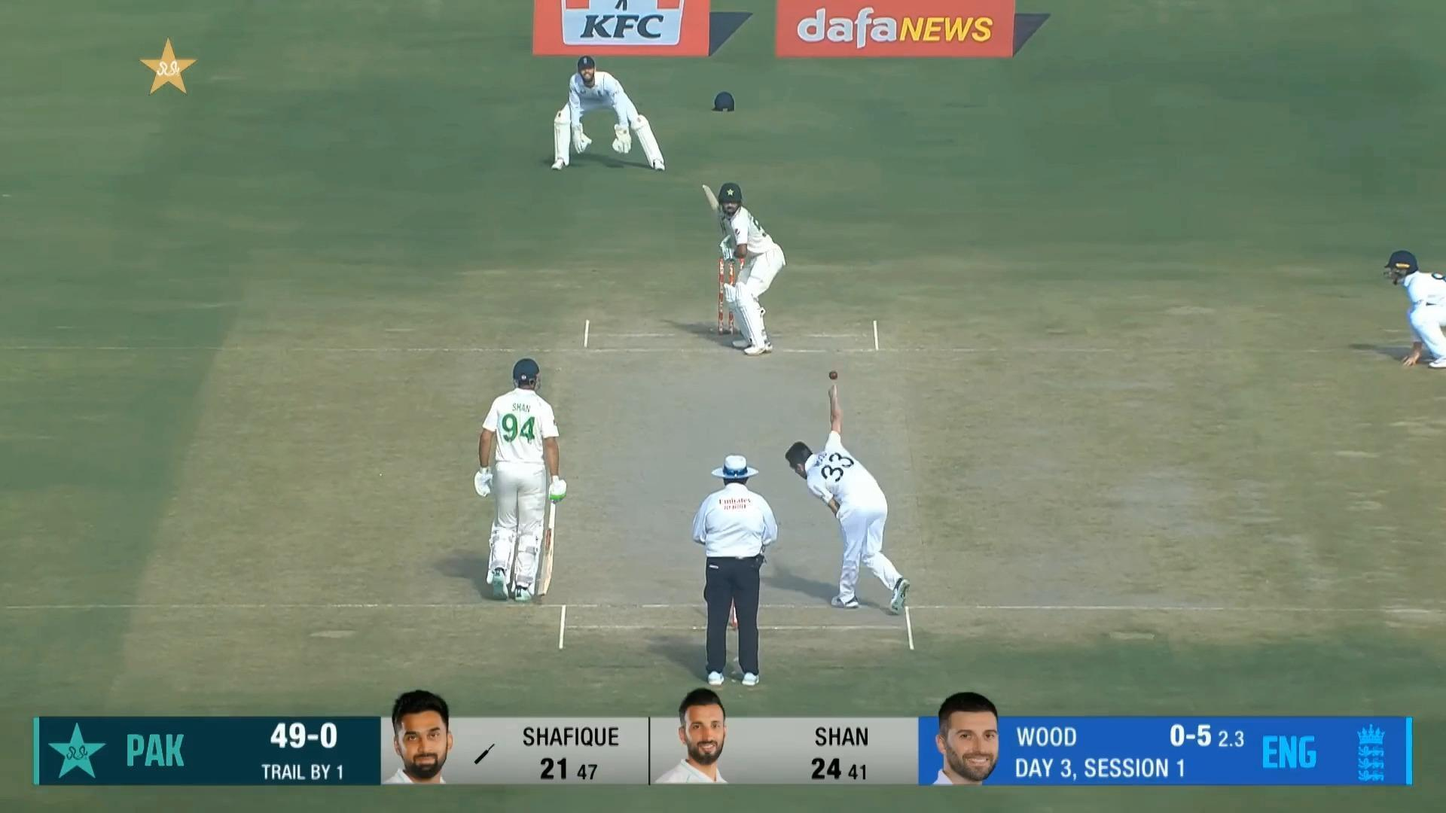BM 1: (702, 182, 787, 358)
BO: (782, 383, 912, 614)
